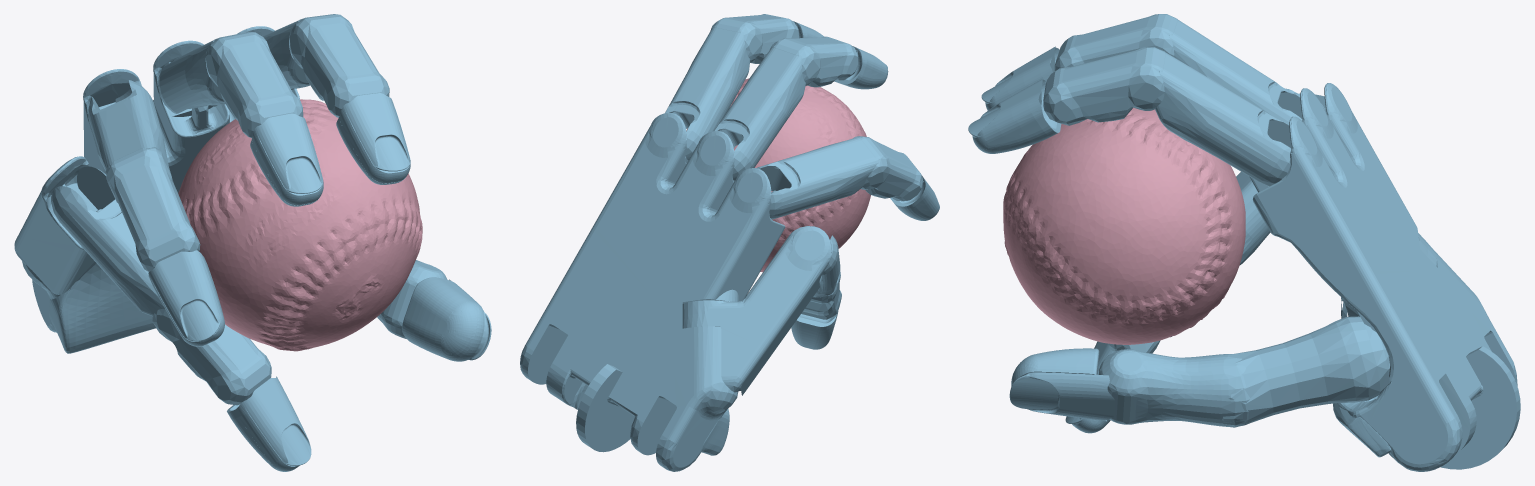
3 renders of one model, left to right at view 1: azimuth 30°, elevation 25°; view 2: azimuth 150°, elevation 25°; view 3: azimuth 270°, elevation 25°, orthographic. The views are drawn at different scales.
Parts seen in each view (by area): view 1: world, baseball.stl; view 2: world, baseball.stl; view 3: world, baseball.stl.
Boxes of the visible parts, x1,y1,x2,y2 form: world: [14, 14, 491, 471]; baseball.stl: [178, 99, 422, 351]; world: [520, 14, 939, 471]; baseball.stl: [686, 78, 870, 272]; world: [968, 14, 1520, 471]; baseball.stl: [1003, 107, 1245, 344].
Bounding box in the file's own units: 0.1103 × 0.1369 × 0.1653.
